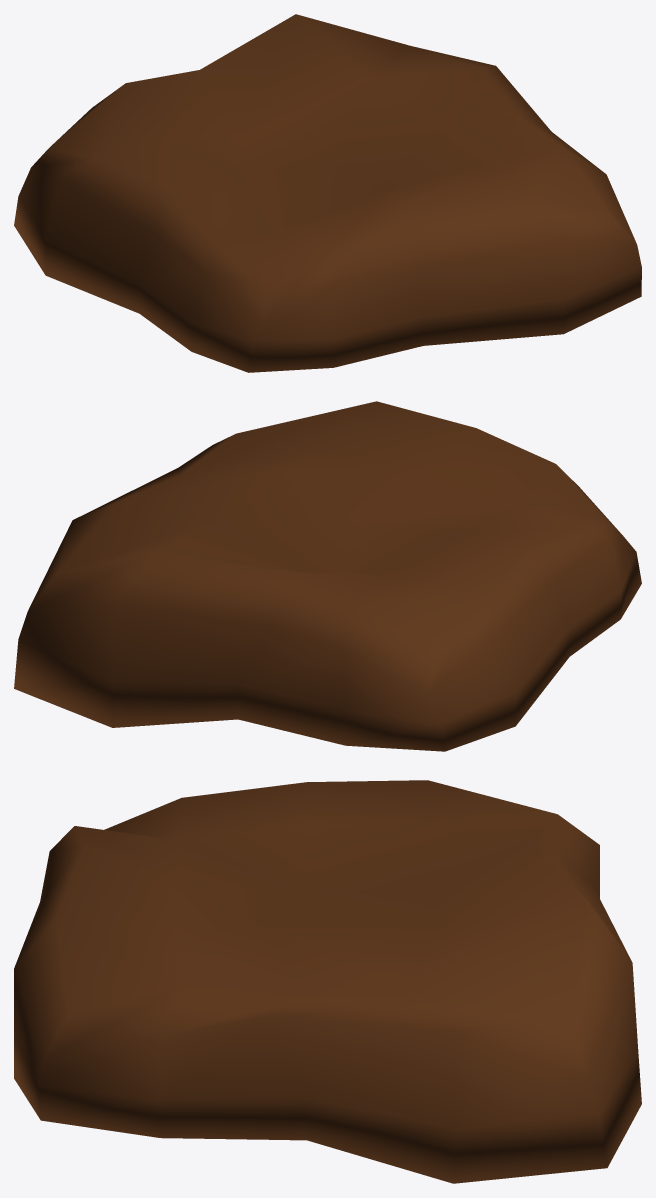
Rendered from Dirt_Damp_V2.fbx.
The picture shows the model from 3 angles, top to bottom: view 1: azimuth 30°, elevation 25°; view 2: azimuth 150°, elevation 25°; view 3: azimuth 270°, elevation 25°; orthographic projection. The views are drawn at different scales.
Visible parts, largest first — view 1: Dirt_Damp; view 2: Dirt_Damp; view 3: Dirt_Damp.
Part boxes in pixels (<box>): Dirt_Damp: <box>14,14,641,372</box>; Dirt_Damp: <box>14,401,641,751</box>; Dirt_Damp: <box>14,780,641,1183</box>.
Bounding box in the file's own units: 93.94 × 32.03 × 93.94.
1 material, 1 textured.
